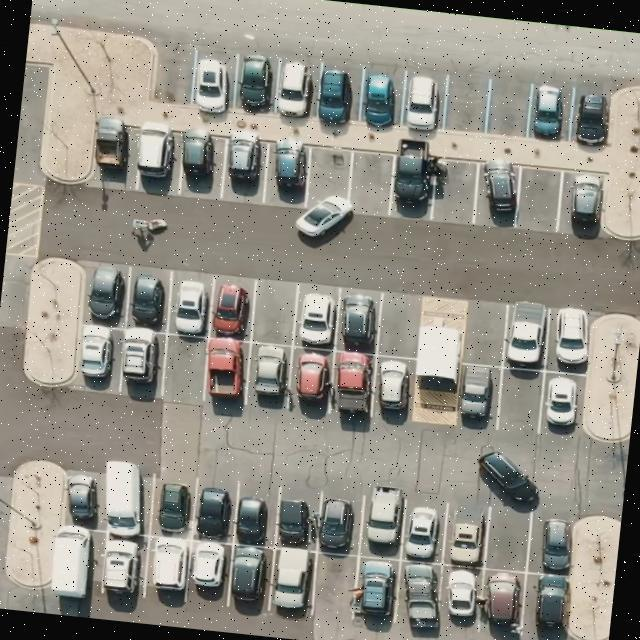space-empty: (428, 148, 481, 222), (307, 550, 360, 622), (345, 147, 396, 216), (494, 367, 544, 436), (515, 164, 565, 232), (484, 504, 534, 572), (374, 290, 424, 358), (160, 332, 208, 402), (303, 142, 355, 206), (250, 278, 298, 346), (442, 70, 490, 136), (459, 300, 506, 367), (483, 74, 531, 138), (146, 44, 192, 104)
space-occupied: (94, 460, 151, 538), (90, 532, 147, 606), (386, 141, 439, 219), (264, 544, 318, 620), (364, 352, 418, 426), (357, 482, 408, 560), (282, 344, 336, 416), (130, 119, 181, 194), (199, 337, 252, 409), (394, 66, 448, 136), (268, 54, 322, 124), (519, 570, 573, 640), (498, 302, 552, 371), (176, 125, 227, 198), (555, 166, 608, 236), (140, 537, 192, 608), (345, 555, 400, 622), (51, 528, 102, 600), (439, 497, 490, 568), (220, 130, 270, 202), (73, 322, 124, 392), (352, 62, 403, 132), (432, 563, 484, 631), (533, 370, 582, 442), (116, 328, 166, 398), (145, 474, 197, 541), (312, 60, 361, 131), (542, 305, 591, 376), (187, 48, 237, 116), (289, 284, 341, 349), (264, 136, 312, 206), (226, 542, 274, 612), (476, 567, 524, 637), (205, 276, 257, 340), (311, 490, 363, 554), (332, 288, 382, 354), (452, 362, 500, 430), (81, 260, 131, 325), (88, 118, 133, 190), (242, 341, 290, 408), (190, 474, 237, 542), (230, 49, 277, 117), (125, 264, 173, 330), (397, 560, 442, 630), (528, 512, 578, 575), (165, 268, 214, 332), (232, 482, 280, 547), (185, 538, 232, 604), (524, 80, 574, 142), (398, 500, 446, 564), (474, 162, 522, 226), (274, 486, 322, 549), (568, 82, 614, 146), (330, 349, 369, 424), (61, 466, 103, 528)
